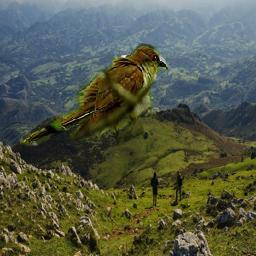Cuckoo: (20, 44, 168, 147)
